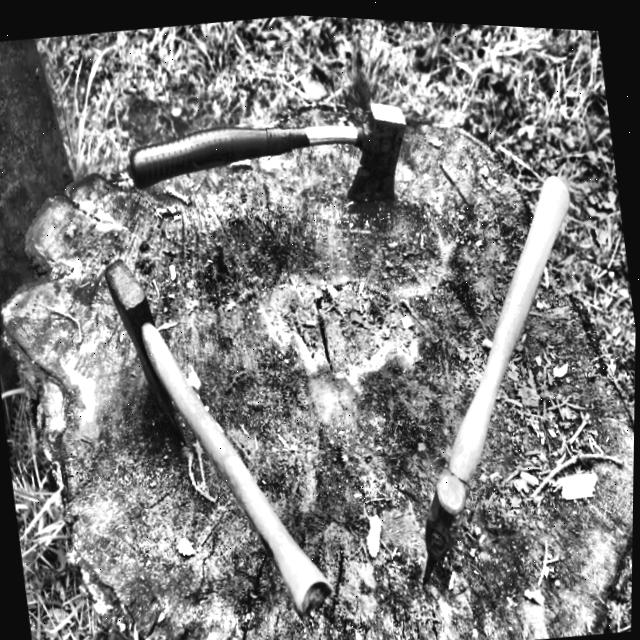kapak: (122, 98, 411, 208)
